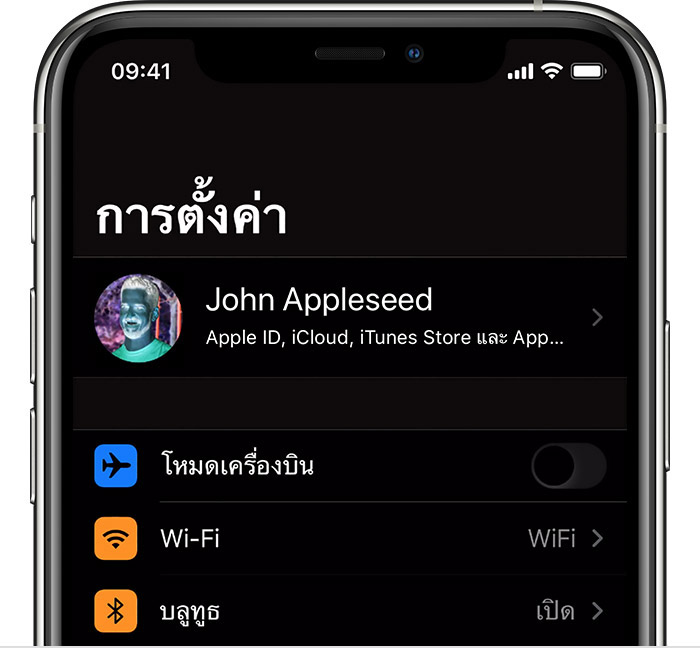phone: (26, 1, 678, 648)
